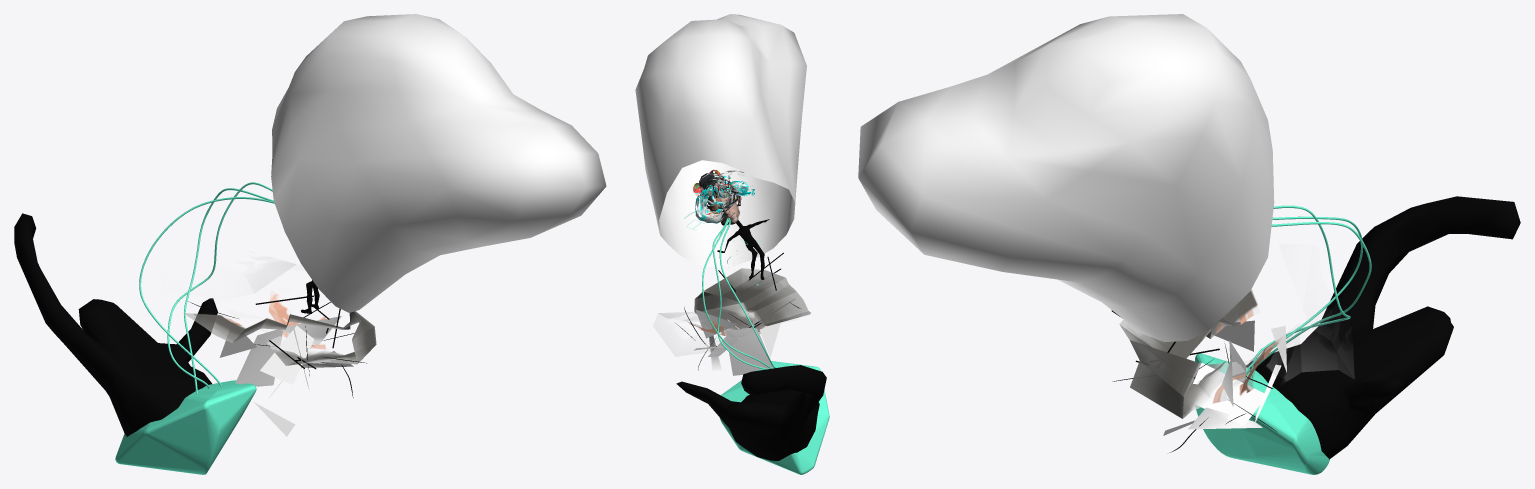
Rendered from arrival.glb.
3 views of the same model, side by side, from view 1: azimuth 30°, elevation 25°; view 2: azimuth 150°, elevation 25°; view 3: azimuth 270°, elevation 25° (orthographic). The views are drawn at different scales.
Visible parts, largest first — view 1: reflector, black.001, strokes, abstract_stairs, face.001, black; view 2: reflector, black.001, abstract_stairs, strokes, face.001, mask, body, hrLitto.001, black; view 3: reflector, black.001, abstract_stairs, strokes, face.001.
Part boxes in pixels (x1,y1,x2,y2): reflector: (259, 14, 606, 397); black.001: (14, 213, 217, 436); strokes: (115, 182, 274, 474); abstract_stairs: (183, 261, 376, 365); face.001: (219, 310, 353, 436); black: (188, 295, 366, 397); reflector: (635, 14, 806, 350); black.001: (676, 365, 826, 460); abstract_stairs: (653, 170, 810, 347); strokes: (702, 217, 829, 474); face.001: (695, 309, 780, 375); mask: (693, 169, 754, 223); body: (717, 219, 769, 279); hrLitto.001: (707, 191, 739, 225); black: (675, 252, 800, 370); reflector: (858, 14, 1281, 422); black.001: (1246, 196, 1520, 459); abstract_stairs: (1119, 289, 1354, 418); strokes: (1195, 205, 1371, 474); face.001: (1163, 320, 1286, 435).
Bounding box in the file's own units: 13.2 × 15.62 × 17.65.
7 materials, 4 textured.
